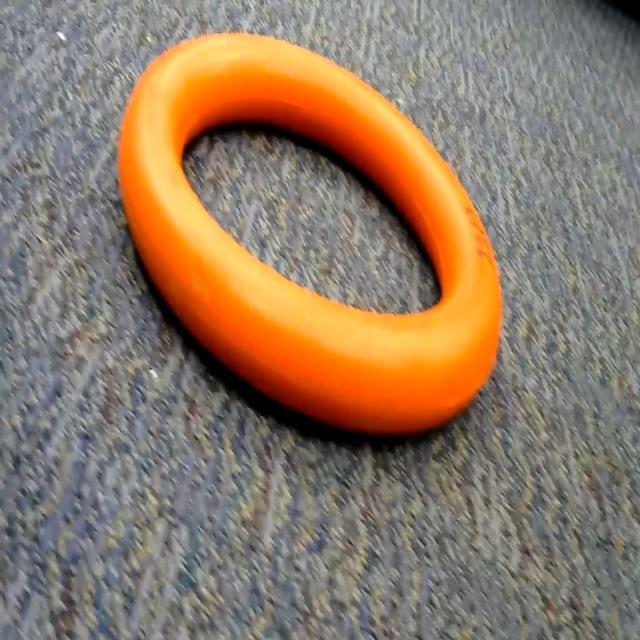note: (88, 21, 536, 477)
